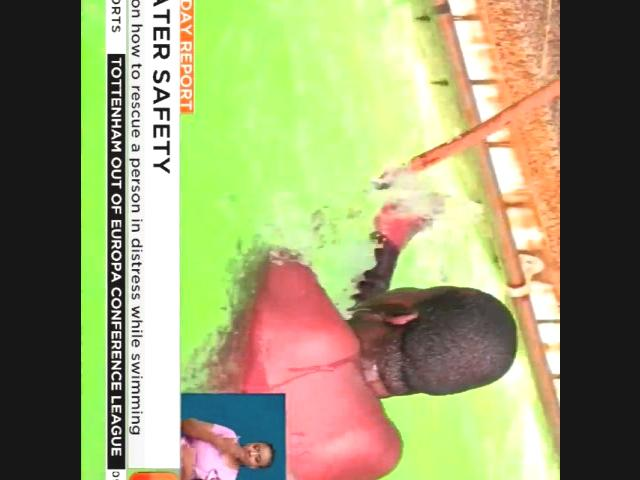swimming: (218, 213, 521, 480)
